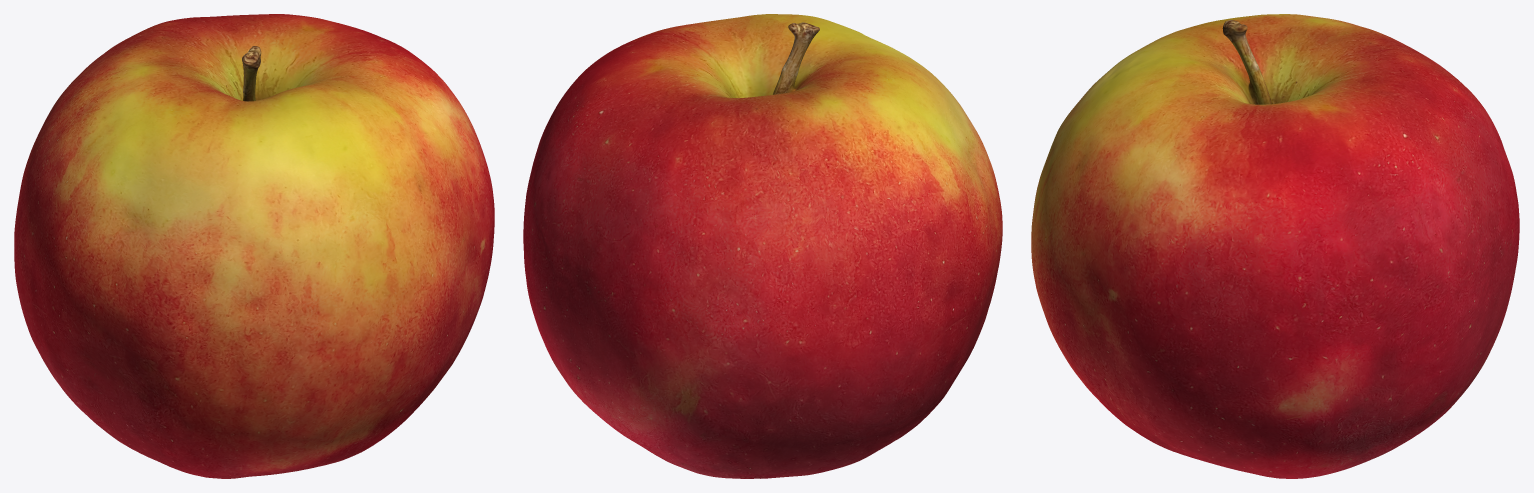
Rendered from apple.glb.
The picture shows the model from 3 angles, left to right: view 1: azimuth 30°, elevation 25°; view 2: azimuth 150°, elevation 25°; view 3: azimuth 270°, elevation 25°; orthographic projection.
Parts seen in each view (by area): view 1: red-apple-2; view 2: red-apple-2; view 3: red-apple-2.
Boxes of the visible parts, box(x1,y1,x2,y2) form: red-apple-2: box(14, 14, 494, 478); red-apple-2: box(523, 14, 1002, 478); red-apple-2: box(1031, 14, 1519, 478).
Size of the model in its own units: 0.0911 by 0.0839 by 0.092.
1 material, 1 textured.
